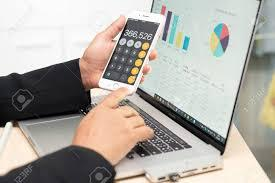Calculator: (100, 25, 156, 86)
